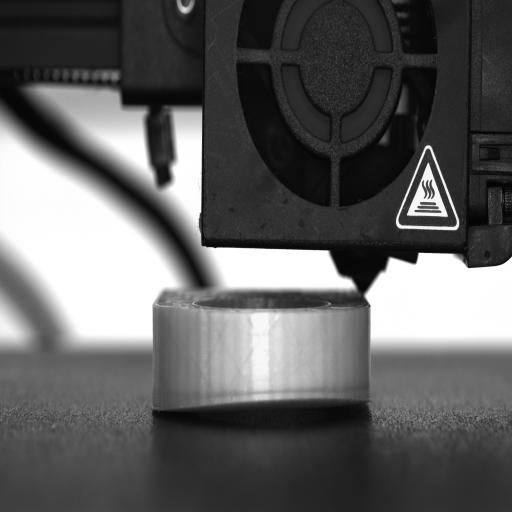warp: (156, 392, 362, 416)
